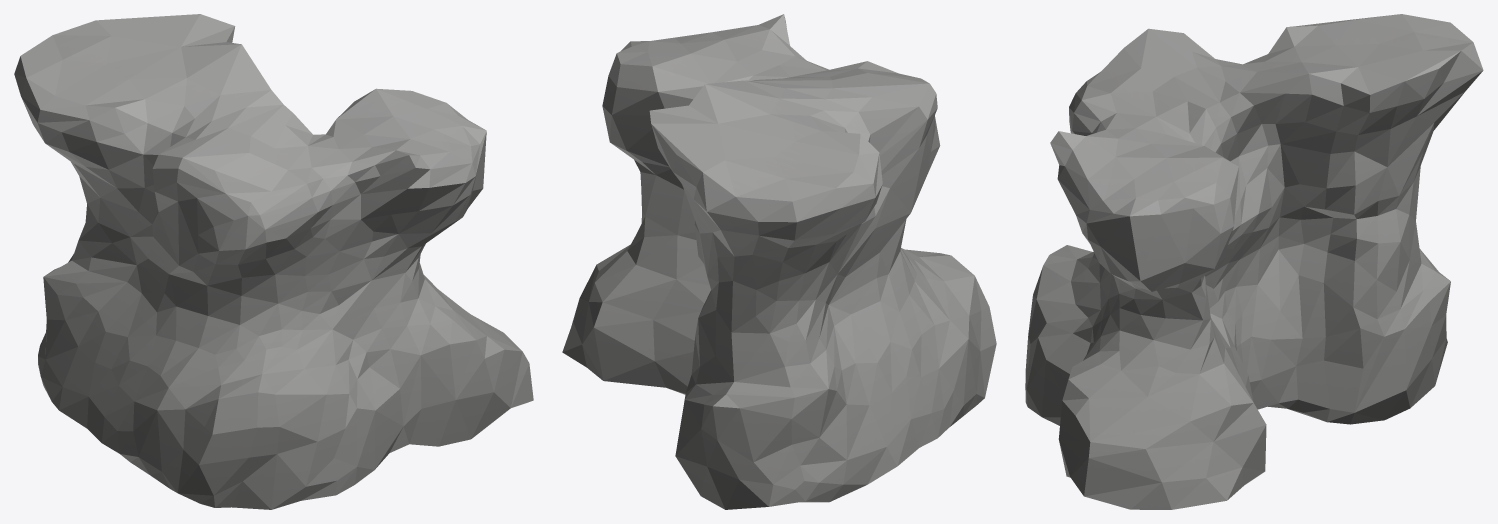
Rendered from Cavern_Wall_Corner_Lrg-02.fbx.
3 renders of one model, left to right at view 1: azimuth 30°, elevation 25°; view 2: azimuth 150°, elevation 25°; view 3: azimuth 270°, elevation 25°, orthographic. The views are drawn at different scales.
Parts seen in each view (by area): view 1: Cavern_Wall_Corner_Lrg-02; view 2: Cavern_Wall_Corner_Lrg-02; view 3: Cavern_Wall_Corner_Lrg-02.
Part boxes in pixels (box(x1,y1,x2,y2)): Cavern_Wall_Corner_Lrg-02: box(14, 14, 533, 509); Cavern_Wall_Corner_Lrg-02: box(562, 14, 996, 509); Cavern_Wall_Corner_Lrg-02: box(1025, 14, 1483, 509).
Bounding box in the file's own units: 1725 × 1543 × 1757.
1 material, 1 textured.
